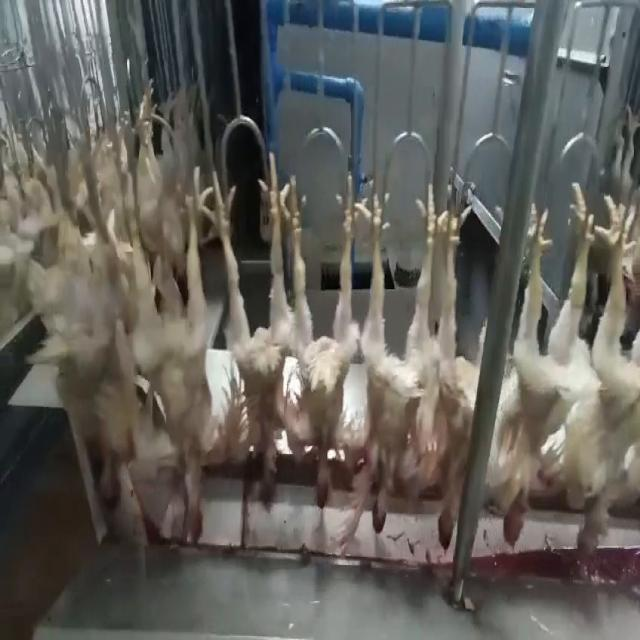chicken: (482, 186, 598, 551), (344, 177, 443, 538), (215, 151, 288, 503), (88, 163, 158, 521), (158, 148, 220, 539), (575, 183, 639, 558), (287, 172, 356, 508), (425, 180, 480, 551)
